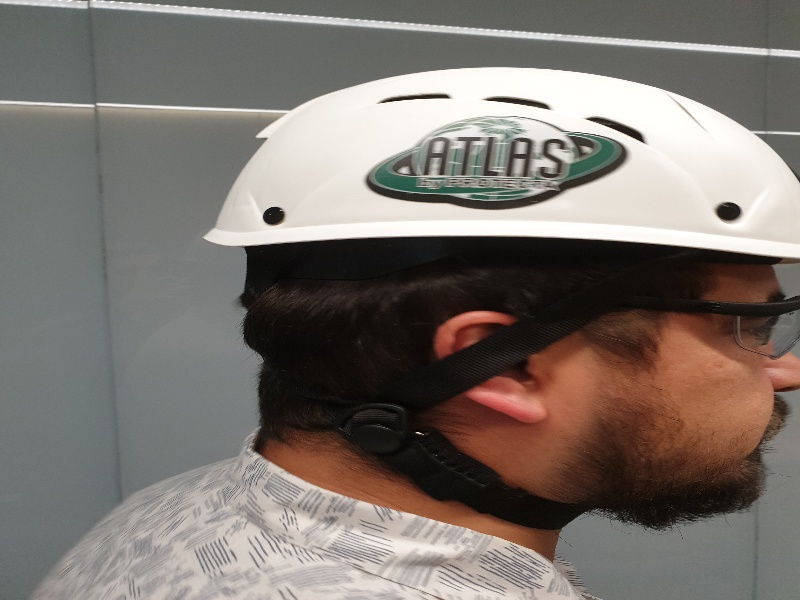Baret: (203, 67, 800, 249)
Gozluk: (620, 294, 800, 367)
